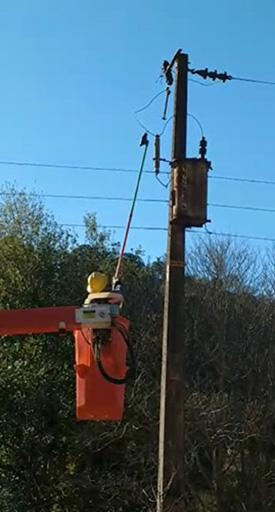Detector_Tensao_Contato: (138, 130, 152, 151)
Vara_Manobra: (109, 147, 150, 294)
